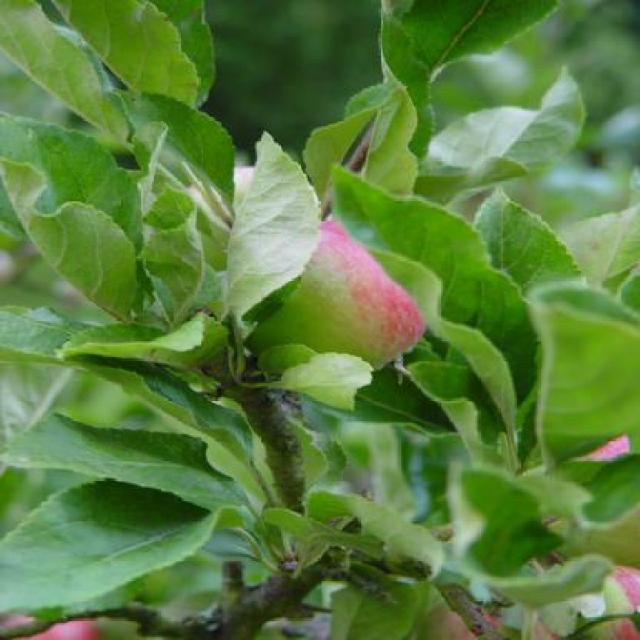Apple pie: (240, 218, 428, 372), (528, 562, 640, 638), (422, 598, 556, 640), (184, 164, 264, 228), (0, 612, 98, 638), (580, 432, 628, 462)
